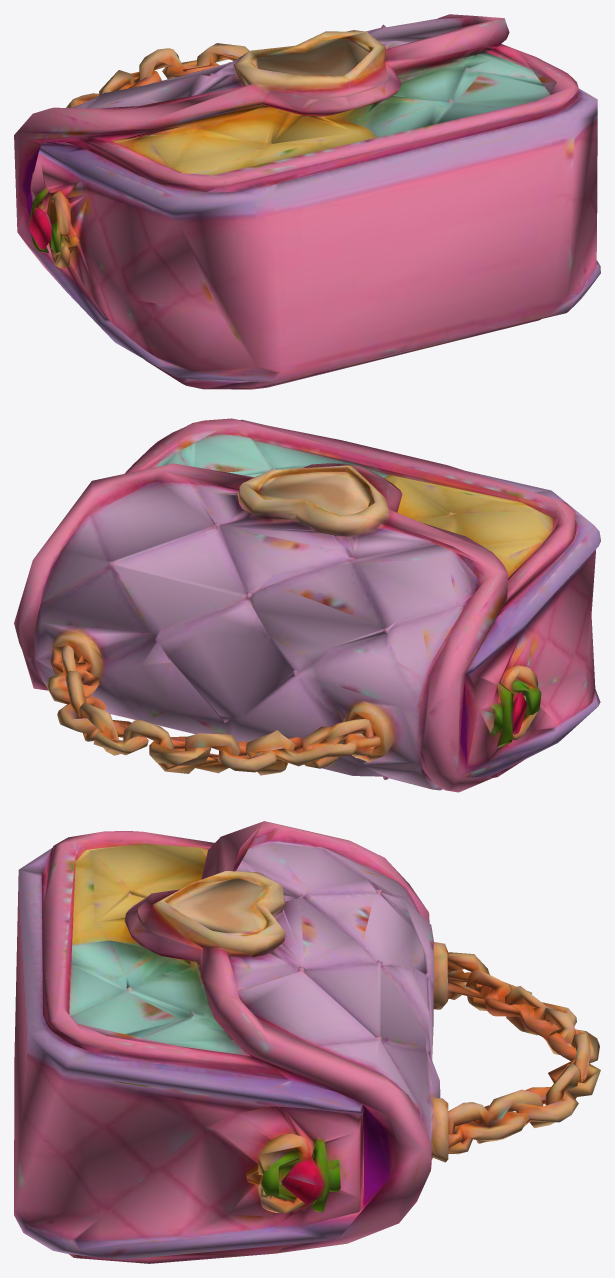
3 renders of one model, top to bottom at view 1: azimuth 30°, elevation 25°; view 2: azimuth 150°, elevation 25°; view 3: azimuth 270°, elevation 25°, orthographic. The views are drawn at different scales.
Parts seen in each view (by area): view 1: material; view 2: material; view 3: material.
Part boxes in pixels (x1,y1,x2,y2): material: (14, 14, 600, 389); material: (14, 418, 600, 792); material: (14, 821, 600, 1263).
Bounding box in the file's own units: 1 × 0.4743 × 0.964.
1 material, 1 textured.
